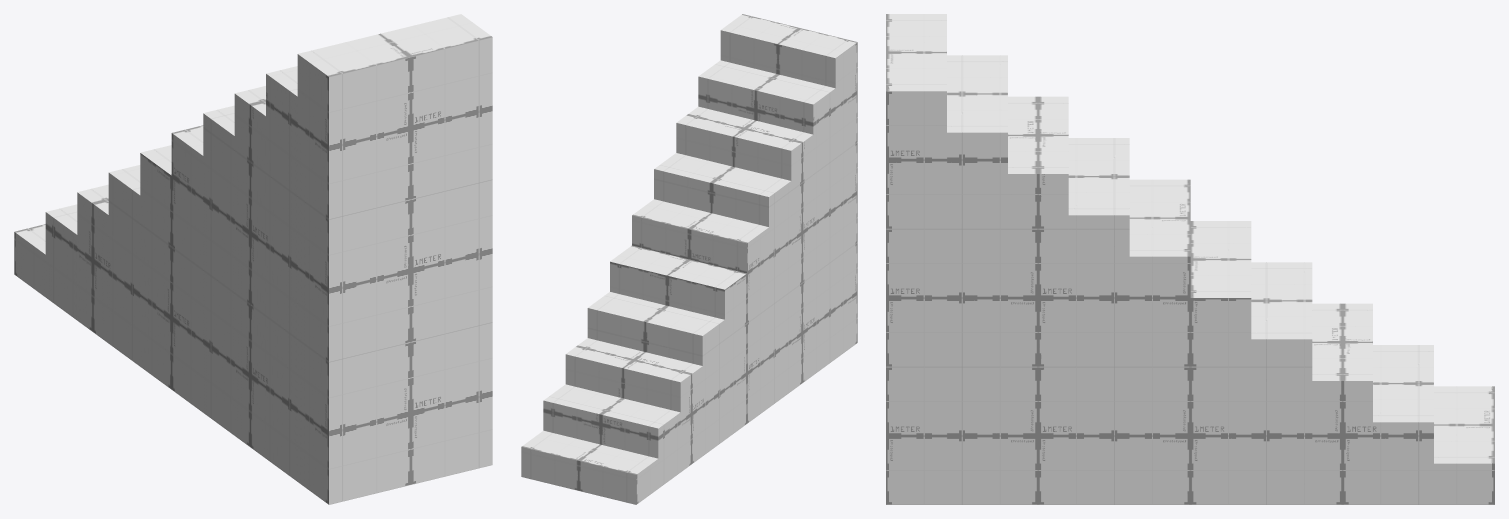
The model's file is Escalera_3.obj.
3 renders of one model, left to right at view 1: azimuth 30°, elevation 25°; view 2: azimuth 150°, elevation 25°; view 3: azimuth 270°, elevation 25°, orthographic. The views are drawn at different scales.
Parts seen in each view (by area): view 1: Escalera_3; view 2: Escalera_3; view 3: Escalera_3.
Boxes of the visible parts, x1,y1,x2,y2 form: Escalera_3: (14, 14, 492, 504); Escalera_3: (521, 14, 857, 504); Escalera_3: (886, 14, 1494, 504).
Size of the model in its own units: 1.2 by 3 by 4.
Materials: 1 (1 with a texture image).
